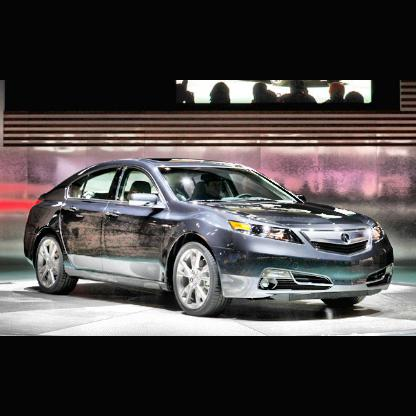Acura TL Sedan 2012: (24, 159, 397, 318)
